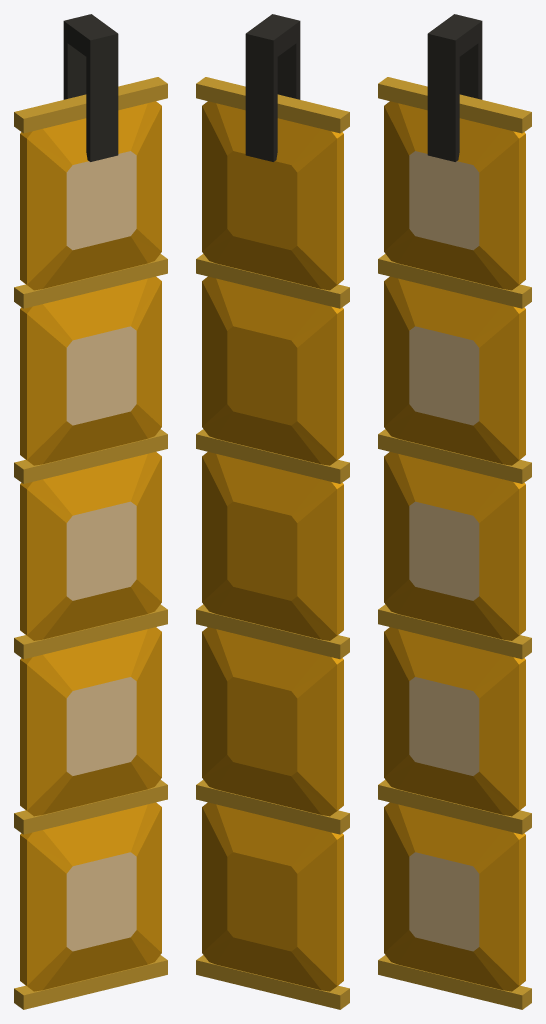
File: SM_Cook_CoffeeSachetStrip_Yellow_01.fbx
3 renders of one model, left to right at view 1: azimuth 30°, elevation 25°; view 2: azimuth 150°, elevation 25°; view 3: azimuth 330°, elevation 25°, orthographic.
Parts seen in each view (by area): view 1: SM_Cook_CoffeeSachetStrip_Yellow_01; view 2: SM_Cook_CoffeeSachetStrip_Yellow_01; view 3: SM_Cook_CoffeeSachetStrip_Yellow_01.
Part boxes in pixels (x1=…): SM_Cook_CoffeeSachetStrip_Yellow_01: x1=14, y1=14, x2=167, y2=1009; SM_Cook_CoffeeSachetStrip_Yellow_01: x1=196, y1=14, x2=349, y2=1009; SM_Cook_CoffeeSachetStrip_Yellow_01: x1=378, y1=14, x2=531, y2=1009.
Bounding box in the file's own units: 0.062 × 0.395 × 0.02.
1 material, 1 textured.
